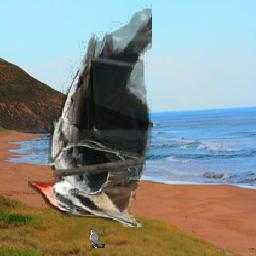Cuckoo: (89, 228, 105, 248)
Woodpecker: (28, 5, 152, 228)
